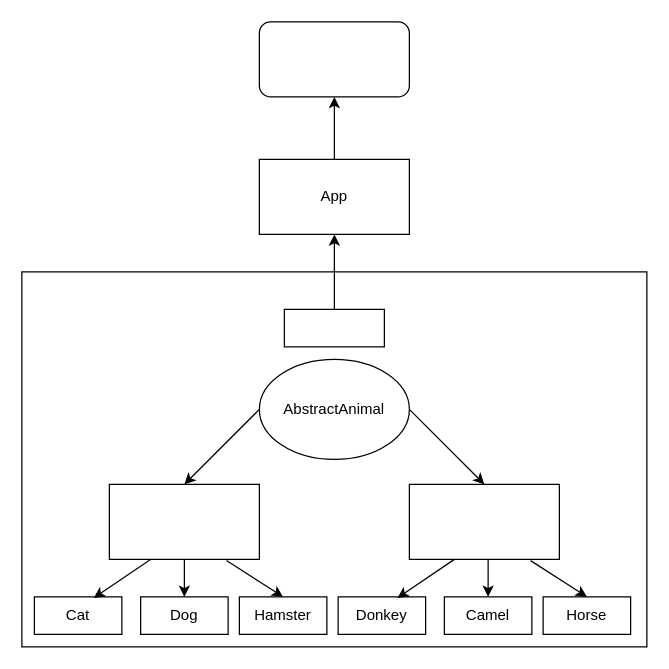
This 669x669 diagram has some shape labels left out. The centre of each missing label's shape, as x and y in pixels:
Console (Program): point 333,59
PackAnimal: point 483,521
Pet: point 183,521
Text data: point 333,327
